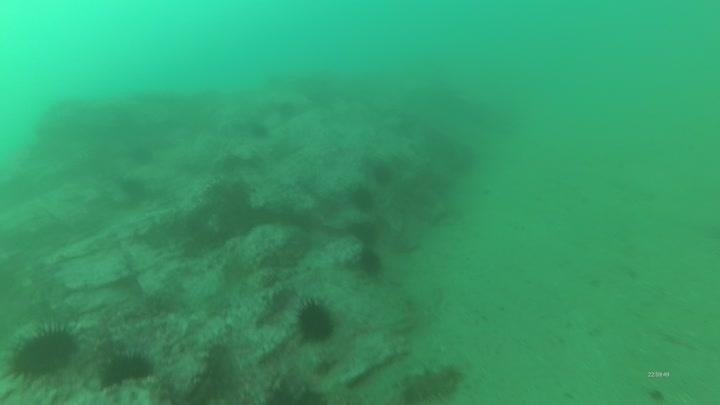echinus: (5, 320, 83, 383), (98, 348, 156, 389), (293, 297, 338, 345), (354, 246, 386, 279), (347, 183, 378, 215), (347, 217, 381, 246), (118, 175, 150, 204), (127, 142, 156, 169), (369, 160, 396, 187)
holothurian: (393, 360, 466, 404)
